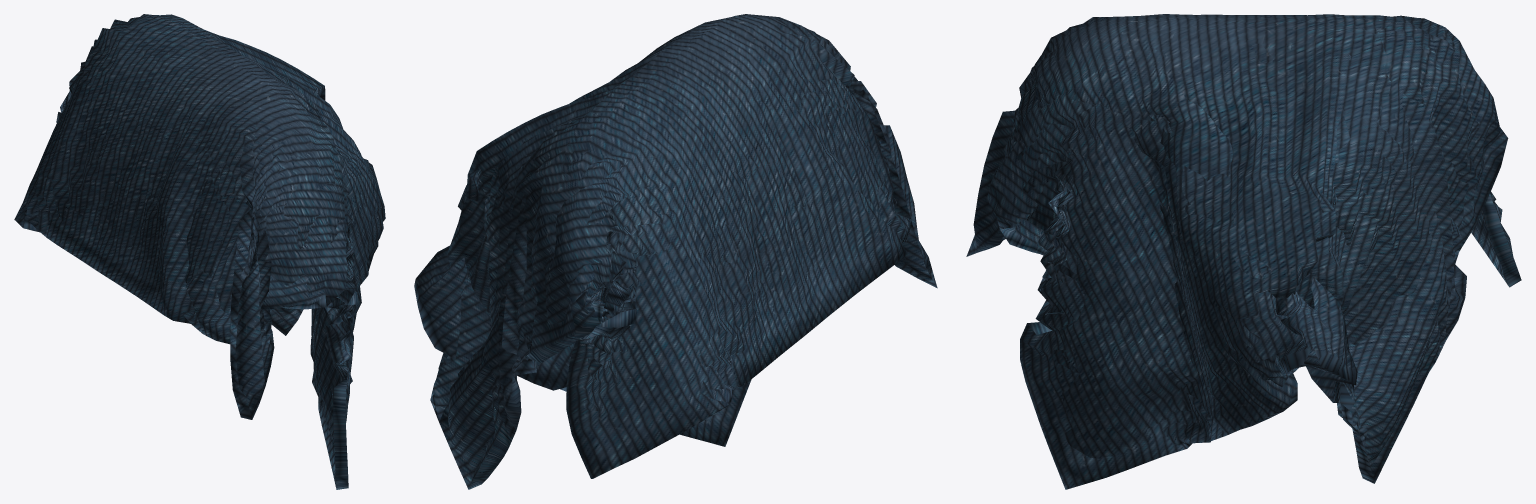
The model's file is 손걸래.fbx.
3 renders of one model, left to right at view 1: azimuth 30°, elevation 25°; view 2: azimuth 150°, elevation 25°; view 3: azimuth 270°, elevation 25°, orthographic. The views are drawn at different scales.
Parts seen in each view (by area): view 1: Plane; view 2: Plane; view 3: Plane.
Part boxes in pixels (x1,y1,x2,y2): Plane: [14, 14, 385, 489]; Plane: [414, 14, 937, 489]; Plane: [966, 14, 1521, 489].
Size of the model in its own units: 28.75 by 34.48 by 38.75.
Materials: 1 (1 with a texture image).
